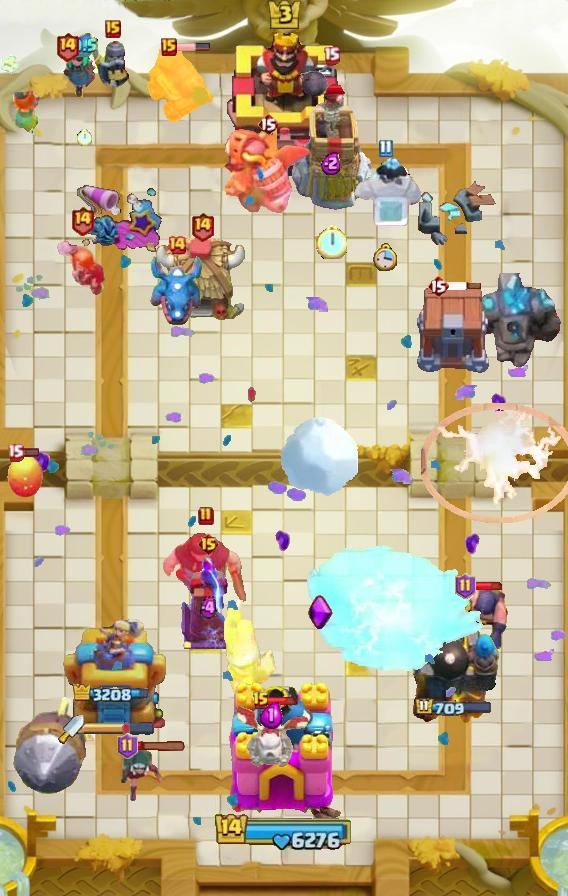bar: (61, 615, 166, 731)
barbarian-evolution: (420, 402, 567, 524)
bomb: (414, 288, 492, 374)
cannoneer-tower: (465, 273, 561, 371)
clock: (214, 811, 354, 851)
electro-spirit: (70, 33, 98, 58), (260, 701, 283, 729), (321, 151, 343, 175), (199, 596, 217, 620)
elixir: (317, 224, 347, 259), (373, 243, 398, 271), (76, 130, 91, 147)
emote: (135, 740, 187, 751), (175, 42, 211, 52), (446, 281, 482, 291), (473, 581, 505, 591), (267, 696, 299, 706), (20, 446, 40, 457)
firecracker: (223, 599, 279, 696)
graveyard: (148, 251, 206, 327)
hog: (5, 455, 45, 499)
hog-rider: (55, 237, 109, 297), (8, 86, 46, 138)
ice-spirit-evolution-symbol: (178, 555, 238, 651)
king-tower: (224, 29, 344, 181), (222, 680, 346, 826)
king-tower-bar: (84, 722, 154, 736)
mega-knight: (302, 542, 486, 678)
mini-pekka: (232, 702, 310, 770)
monk: (455, 582, 509, 652)
night-witch: (221, 125, 315, 217)
prince: (155, 236, 249, 326)
princess: (89, 34, 137, 94)
rage: (345, 156, 425, 226)
royal-giant-evolution: (146, 49, 214, 123)
royal-hog: (163, 531, 249, 605)
selected: (73, 684, 155, 706), (414, 698, 494, 719)
skeleton-king-skill: (307, 594, 333, 630)
tesla: (115, 747, 165, 801)
text: (55, 30, 80, 61), (69, 205, 94, 236), (190, 210, 215, 241), (196, 532, 219, 556), (456, 573, 477, 599), (117, 733, 138, 759), (257, 112, 279, 136), (427, 274, 449, 298), (167, 235, 187, 255), (252, 691, 270, 711), (7, 442, 25, 461), (323, 47, 341, 65), (198, 506, 214, 526), (105, 20, 121, 38), (161, 38, 177, 56), (378, 139, 393, 158)
tower-bar: (406, 611, 500, 731)
wall-breaker: (278, 415, 360, 497)
witch: (60, 43, 108, 101)
x-bow: (13, 696, 104, 795)
zappy: (287, 70, 375, 214)
